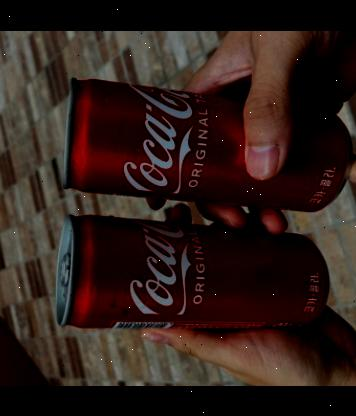Can: (62, 75, 350, 213), (58, 214, 324, 326)
